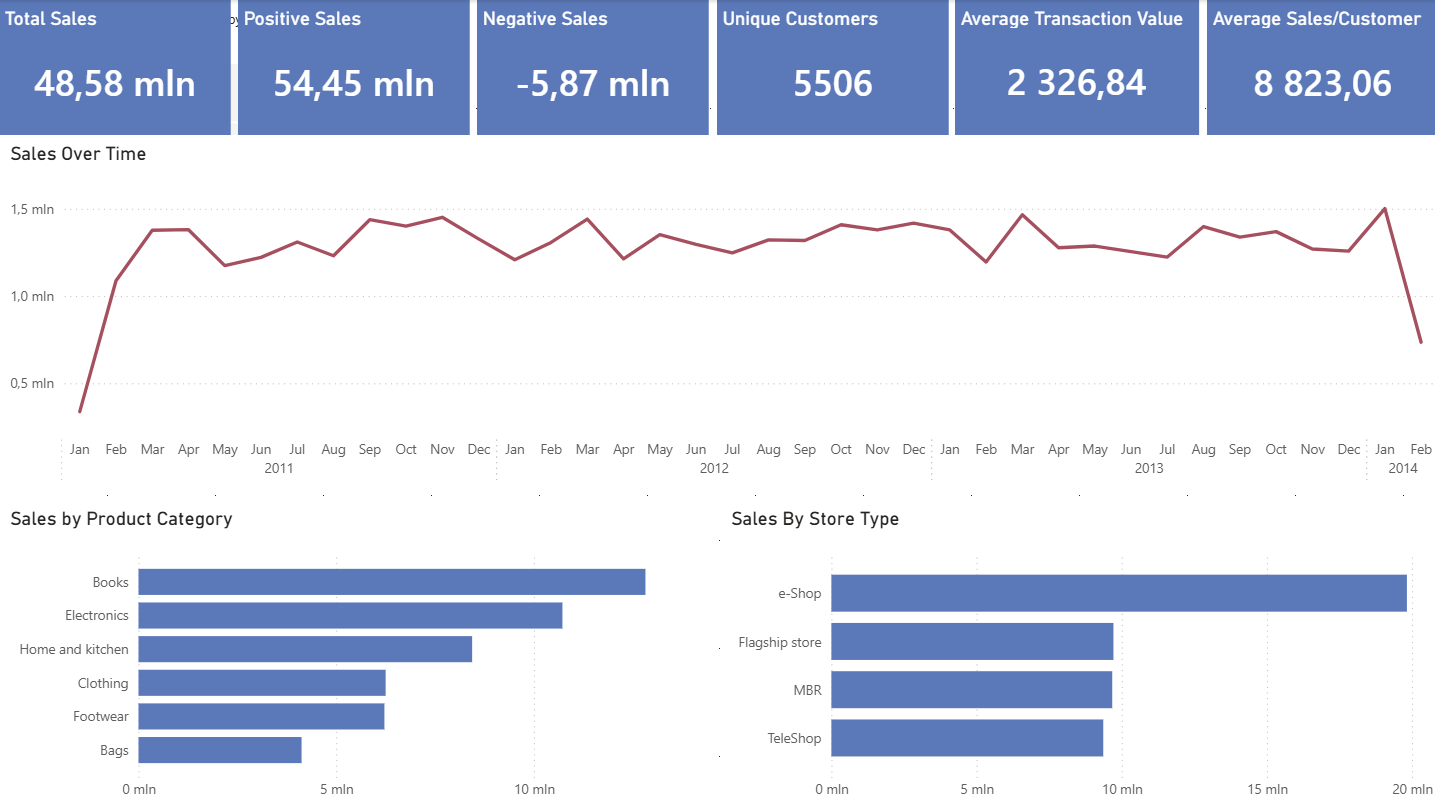

Layout of this report page (visuals, bound fields, positions):
{"tool":"powerbi","page":{"name":"Sales Overview","canvas":[1280,720],"ordinal":0},"visuals":[{"type":"clusteredColumnChart","box":[10,0,280,280],"z":4000},{"type":"cardVisual","title":"Total Sales","fields":{"Data":["Customer_Final.totalSales"]},"box":[0,0,206,120],"z":4250,"group":"g1"},{"type":"cardVisual","title":"Positive Sales","fields":{"Data":["Customer_Final.positiveSales"]},"box":[212.6,0,206,120],"z":4375,"group":"g1"},{"type":"cardVisual","title":"Negative Sales","fields":{"Data":["Customer_Final.negativeSales"]},"box":[425.2,0,206,120],"z":4437,"group":"g1"},{"type":"cardVisual","title":"Unique Customers","fields":{"Data":["Customer_Final.uniqueCustomers"]},"box":[638,0,206,120],"z":4468,"group":"g1"},{"type":"clusteredColumnChart","box":[10,570,280,150],"z":5000},{"type":"cardVisual","title":"Average Transaction Value","fields":{"Data":["Customer_Final.averageTransactionValue"]},"box":[850.1,0,216.7,119.8],"z":6500,"group":"g1"},{"type":"cardVisual","title":"Average Sales/Customer","fields":{"Data":["Customer_Final.averageSalesPerCustomer"]},"box":[1073.8,0,206,120],"z":7250,"group":"g1"},{"type":"lineChart","title":"Sales Over Time","fields":{"Y":["Customer_Final.totalSales"],"Category":["Customer_Final.transactionYear","Customer_Final.monthShort"]},"box":[0.9,120,1279.1,318.2],"z":8000},{"type":"clusteredBarChart","title":"Sales by Product Category","fields":{"Category":["Customer_Final.productCategory"],"Y":["Customer_Final.totalSales"]},"box":[0,442.7,640,277.3],"z":9000,"group":"g2"},{"type":"clusteredBarChart","title":"Sales By Store Type","fields":{"Category":["Customer_Final.storeType"],"Y":["Customer_Final.totalSales"]},"box":[640.9,442.7,639.1,277.3],"z":10000,"group":"g2"},{"type":"group","id":"g1","title":"Grupa 1","box":[0,0,1279.8,120],"z":10001},{"type":"group","id":"g2","title":"Grupa 2","box":[0,442.7,1280,277.3],"z":10002}]}

Visuals, with their boxes in screenshot pixels (x1, y1, x2, y2), scaled from the page's 1280x720 canvas onto the 1435x807 screenshot:
clusteredColumnChart: 11:0:325:314
"Total Sales" cardVisual: 0:0:231:134
"Positive Sales" cardVisual: 238:0:469:134
"Negative Sales" cardVisual: 477:0:708:134
"Unique Customers" cardVisual: 715:0:946:134
clusteredColumnChart: 11:639:325:806
"Average Transaction Value" cardVisual: 953:0:1196:134
"Average Sales/Customer" cardVisual: 1204:0:1434:134
"Sales Over Time" lineChart: 1:134:1434:491
"Sales by Product Category" clusteredBarChart: 0:496:718:806
"Sales By Store Type" clusteredBarChart: 719:496:1434:806
"Grupa 1" group: 0:0:1434:134
"Grupa 2" group: 0:496:1434:806
